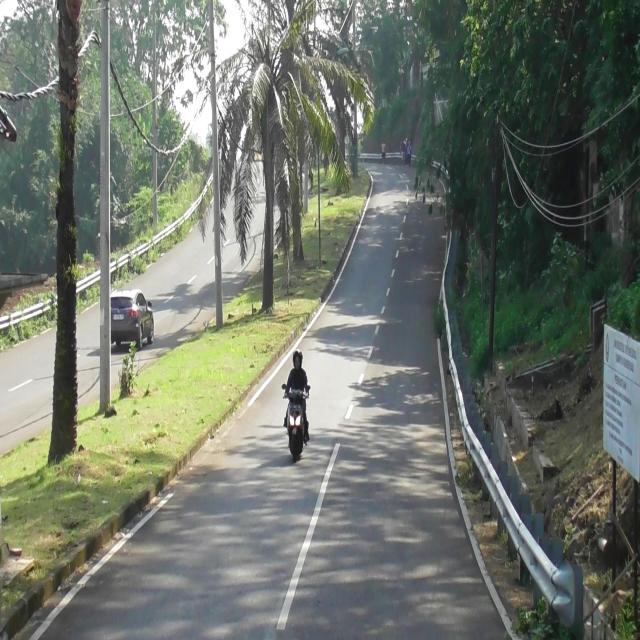motorcycle: (281, 382, 310, 462)
person: (284, 350, 309, 440)
rider_region: (282, 348, 311, 460)
